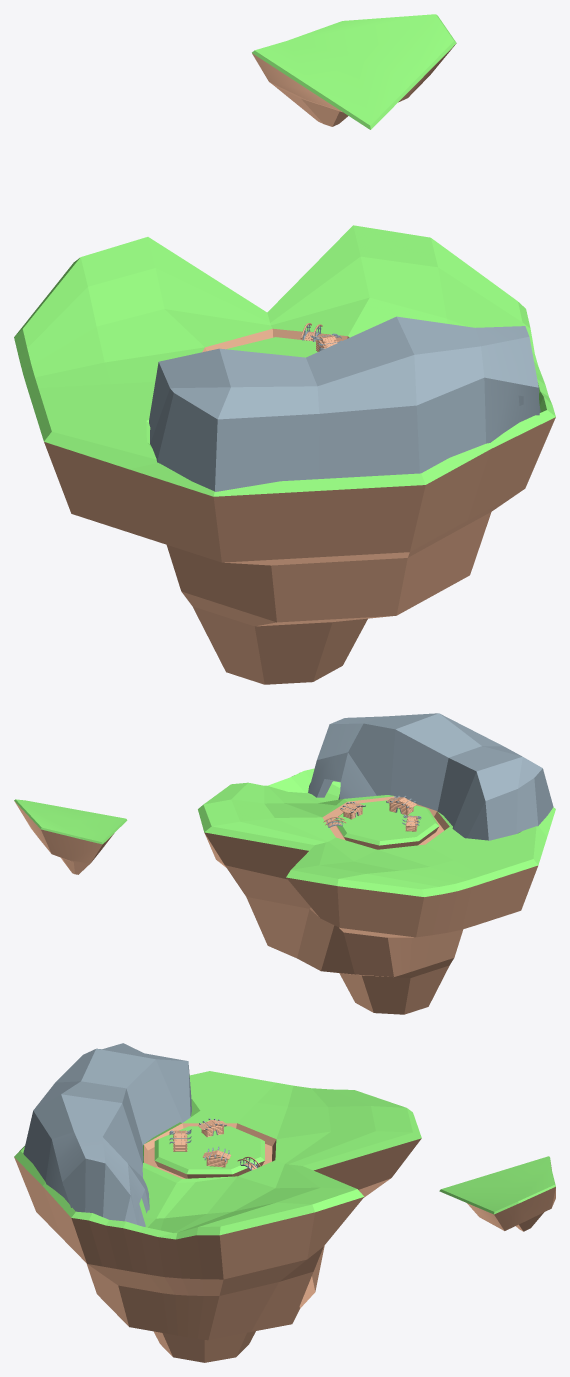
Rendered from NewIsland.fbx.
The picture shows the model from 3 angles, top to bottom: view 1: azimuth 30°, elevation 25°; view 2: azimuth 150°, elevation 25°; view 3: azimuth 270°, elevation 25°; orthographic projection. The views are drawn at different scales.
Parts seen in each view (by area): view 1: IslandBase, Cave, IslandCrack; view 2: IslandBase, Cave, IslandCrack; view 3: IslandBase, Cave, IslandCrack.
Part boxes in pixels (<box>): IslandBase: <box>14,225,555,684</box>; Cave: <box>149,316,540,491</box>; IslandCrack: <box>252,14,456,129</box>; IslandBase: <box>198,768,555,1014</box>; Cave: <box>308,713,553,840</box>; IslandCrack: <box>14,799,127,874</box>; IslandBase: <box>14,1071,421,1362</box>; Cave: <box>23,1043,191,1226</box>; IslandCrack: <box>439,1156,555,1231</box>.
Size of the model in its own units: 108 by 65.17 by 118.
